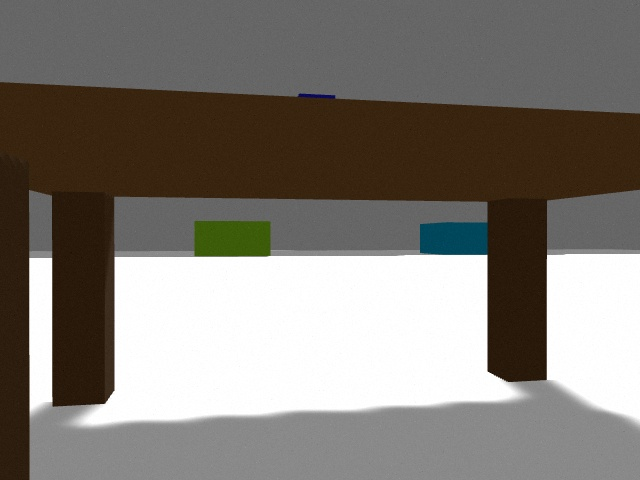blue_cube: (299, 94, 335, 98)
blue_drop_zone: (420, 222, 487, 255)
green_drop_zone: (194, 221, 271, 256)
